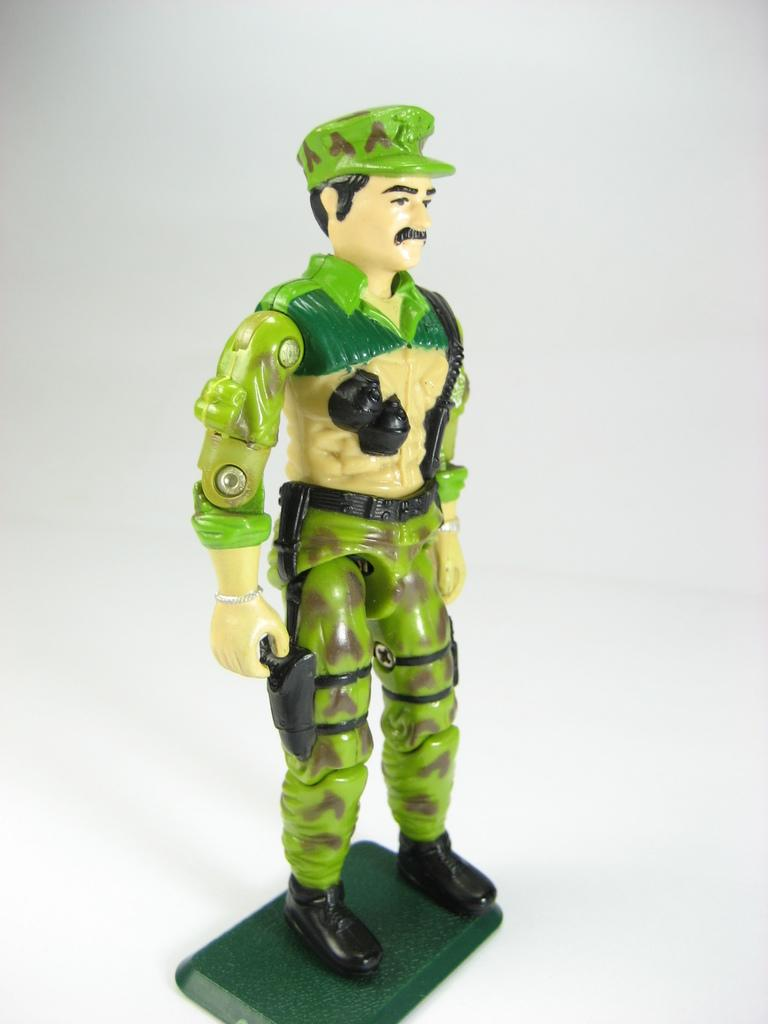Hat: (297, 101, 454, 189)
